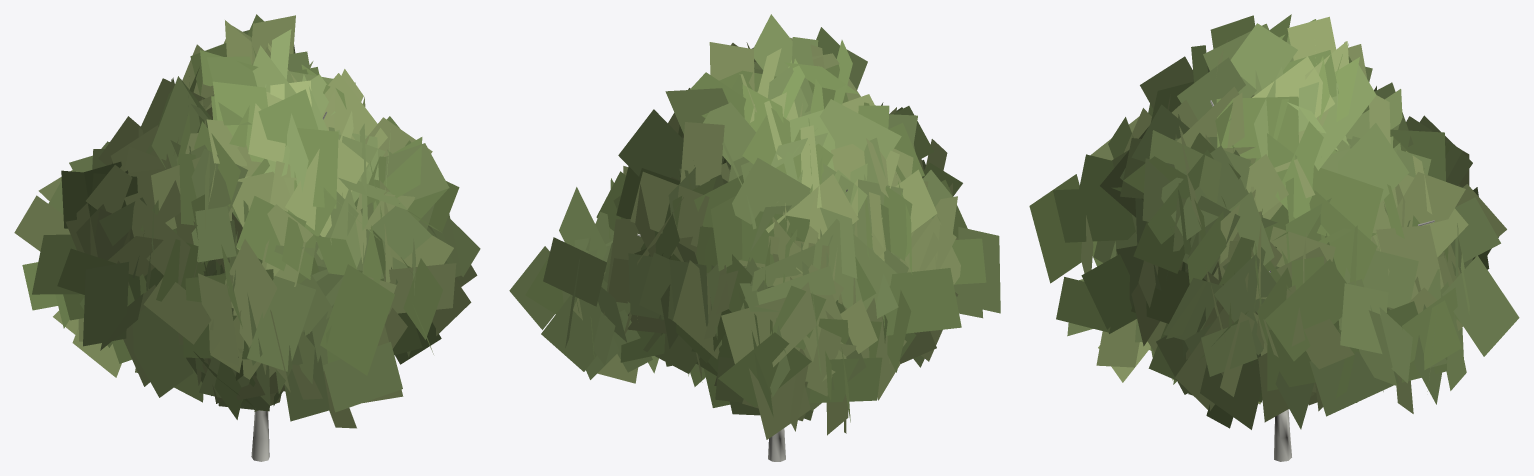
The model's file is birch_1.glb.
3 views of the same model, side by side, from view 1: azimuth 30°, elevation 25°; view 2: azimuth 150°, elevation 25°; view 3: azimuth 270°, elevation 25° (orthographic). The views are drawn at different scales.
Visible parts, largest first — view 1: birch_1; view 2: birch_1; view 3: birch_1.
Boxes of the visible parts, left/top/right/bottom form: birch_1: left=14, top=14, right=480, bottom=461; birch_1: left=509, top=14, right=1000, bottom=461; birch_1: left=1029, top=14, right=1519, bottom=461.
Size of the model in its own units: 0.9767 by 1 by 1.
